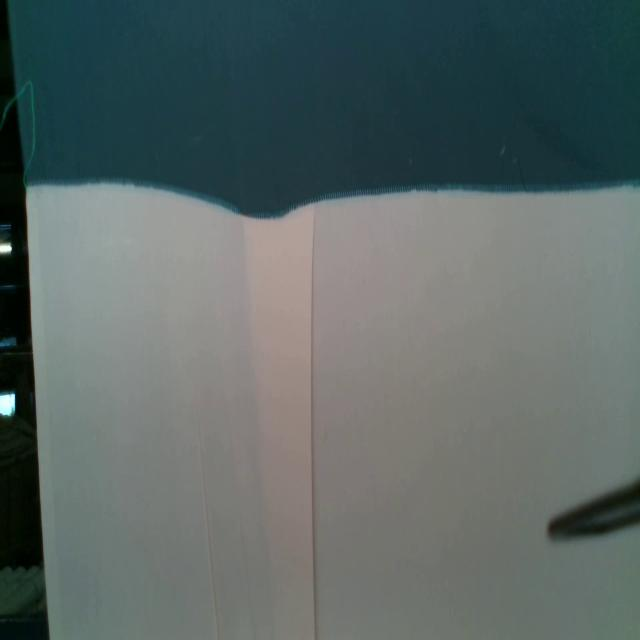crease: (191, 393, 220, 640), (309, 214, 319, 640)
